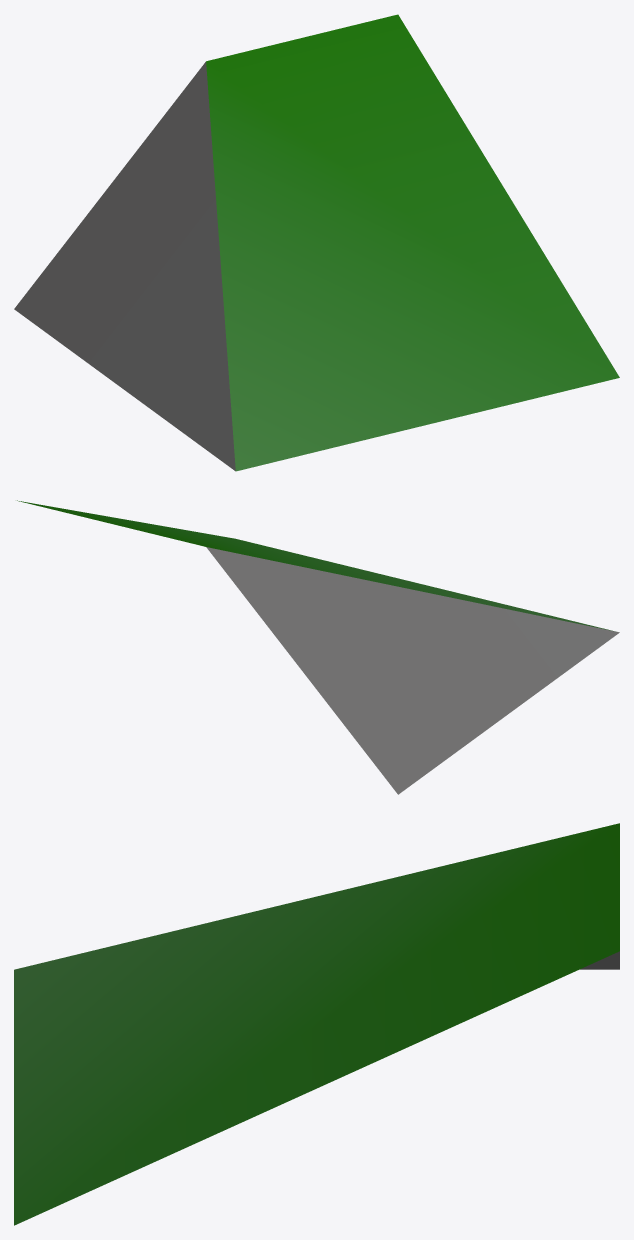
File: wfc_module_23.fbx
3 views of the same model, one above another, from view 1: azimuth 30°, elevation 25°; view 2: azimuth 150°, elevation 25°; view 3: azimuth 270°, elevation 25° (orthographic). The views are drawn at different scales.
Visible parts, largest first — view 1: wfc_module_23; view 2: wfc_module_23; view 3: wfc_module_23.
Part boxes in pixels (x1,y1,x2,y2): wfc_module_23: [14, 14, 619, 471]; wfc_module_23: [17, 500, 619, 794]; wfc_module_23: [14, 823, 619, 1225].
Bounding box in the file's own units: 100 × 50 × 100.
